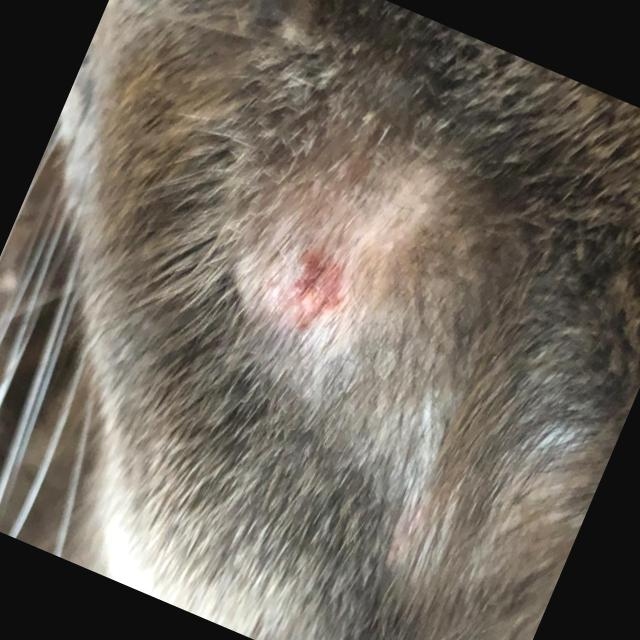cat-dermatitis: (266, 240, 362, 342)
